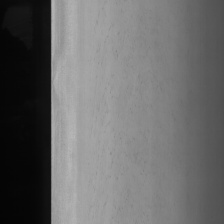silk_spot: (92, 21, 133, 210)
